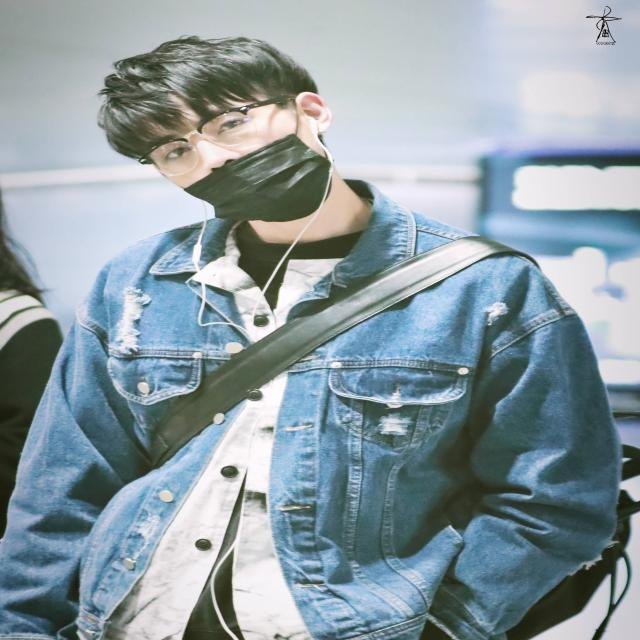hairnet: (146, 102, 327, 216)
